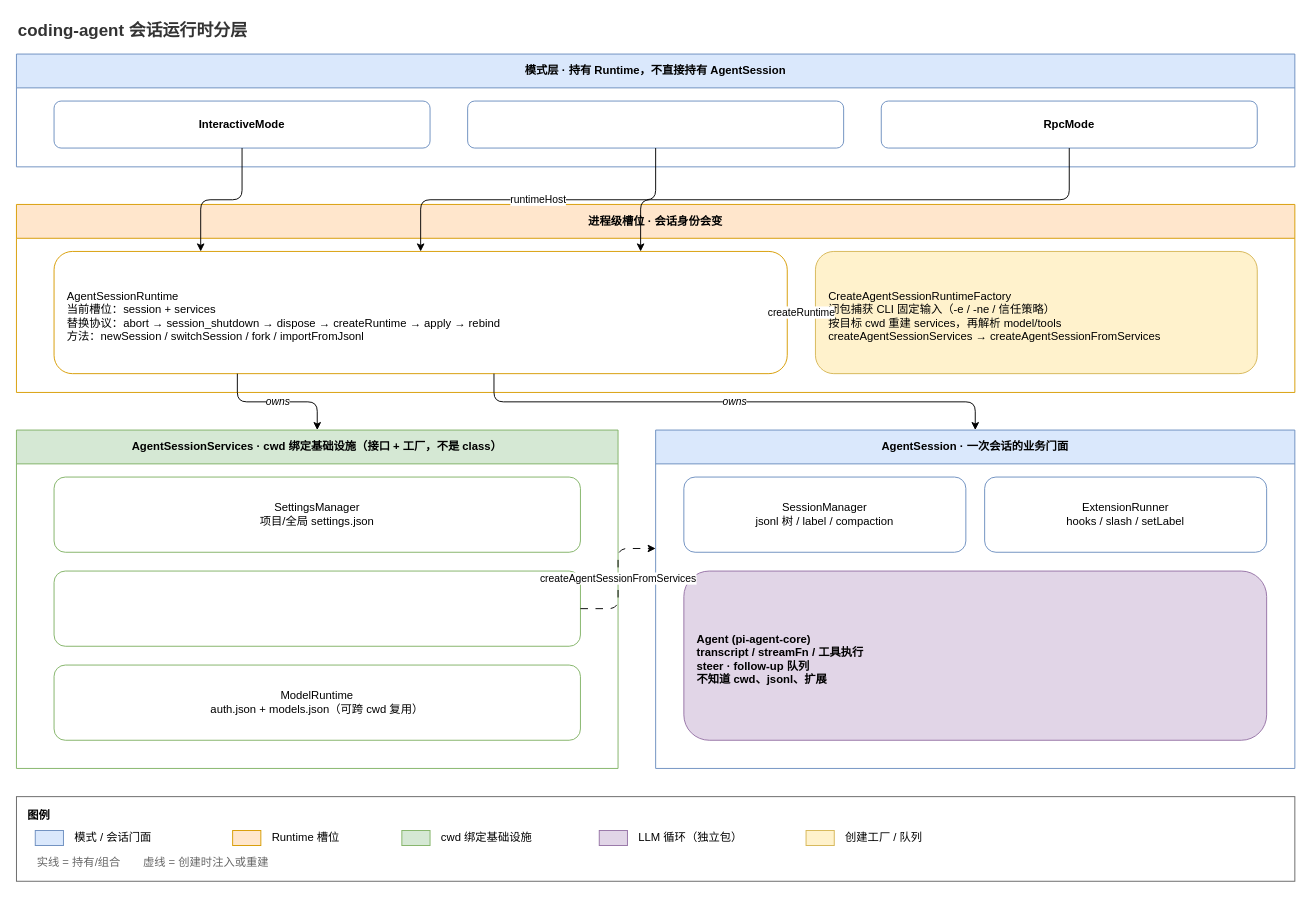
The diagram is 1311 pixels wide and 898 high, and some of its shapes have lost their labels. Each missing label, with the centre of its shape:
PrintMode: (x=655, y=124)
ResourceLoader 扩展 / skills / prompts / themes / 系统提示: (x=316, y=608)
